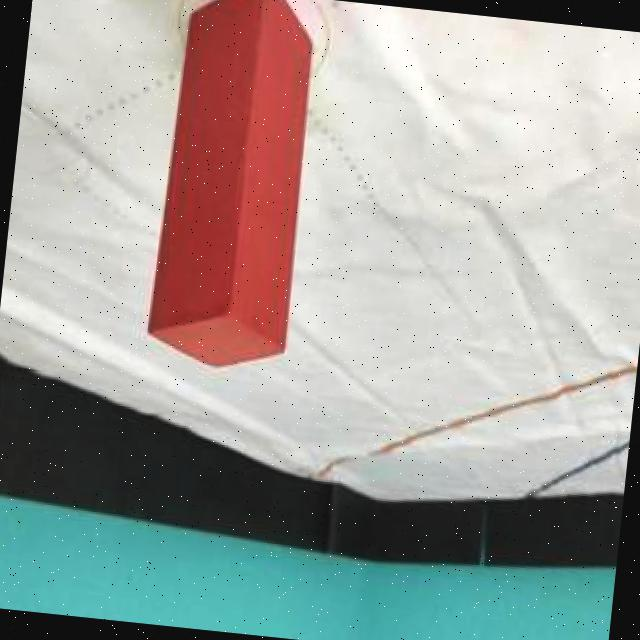redbox: (141, 0, 325, 379)
